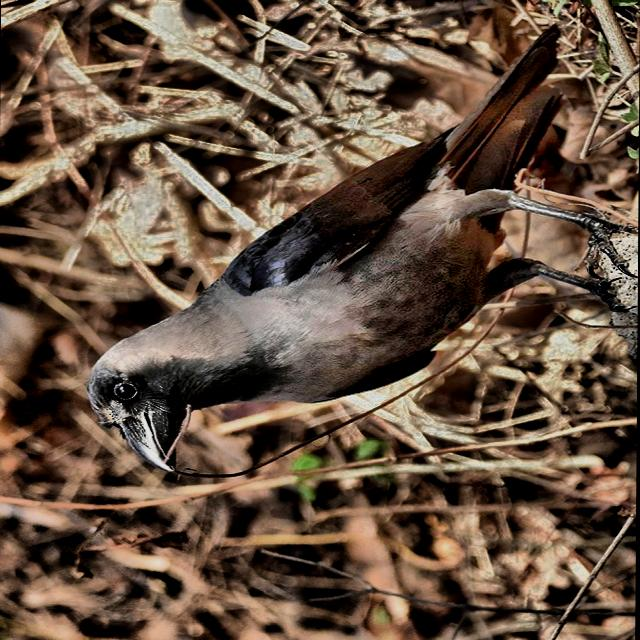crow: (71, 11, 640, 479)
